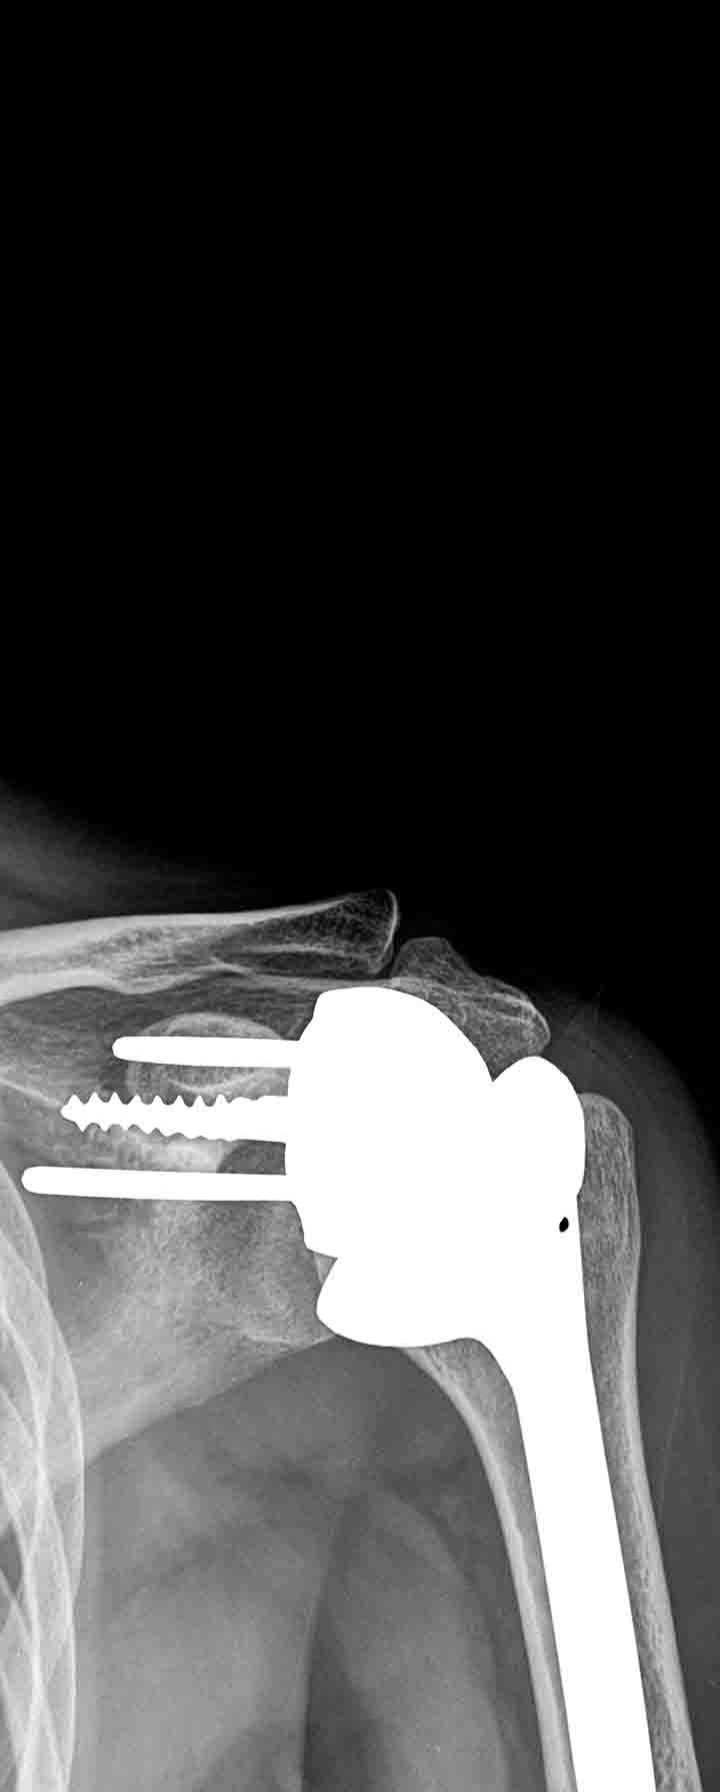Shoulder-Reverse-DJO: (27, 935, 674, 1792)
